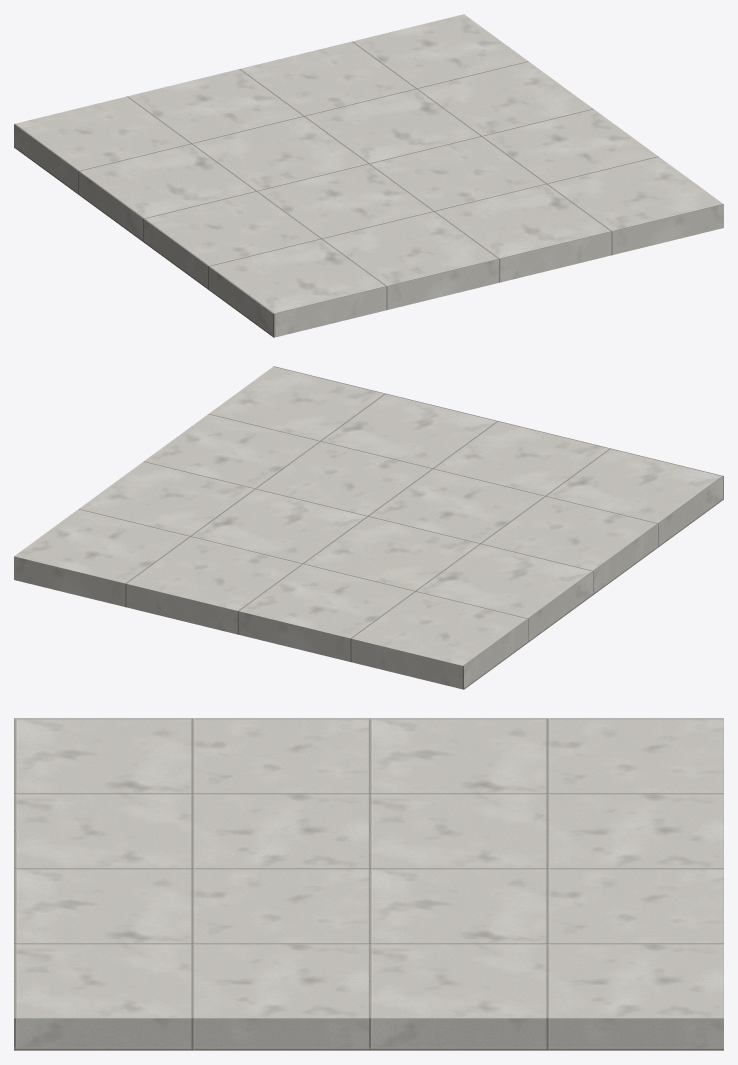
Rendered from ceiling-light.glb.
3 views of the same model, one above another, from view 1: azimuth 30°, elevation 25°; view 2: azimuth 150°, elevation 25°; view 3: azimuth 270°, elevation 25° (orthographic). The views are drawn at different scales.
Visible parts, largest first — view 1: CeilingLight_whitePanels; view 2: CeilingLight_whitePanels; view 3: CeilingLight_whitePanels.
Boxes of the visible parts, left/top/right/bottom form: CeilingLight_whitePanels: left=14, top=14, right=723, bottom=337; CeilingLight_whitePanels: left=14, top=366, right=723, bottom=689; CeilingLight_whitePanels: left=14, top=718, right=723, bottom=1050.
Size of the model in its own units: 2 by 0.115 by 2.
Materials: 3 (3 with a texture image).
